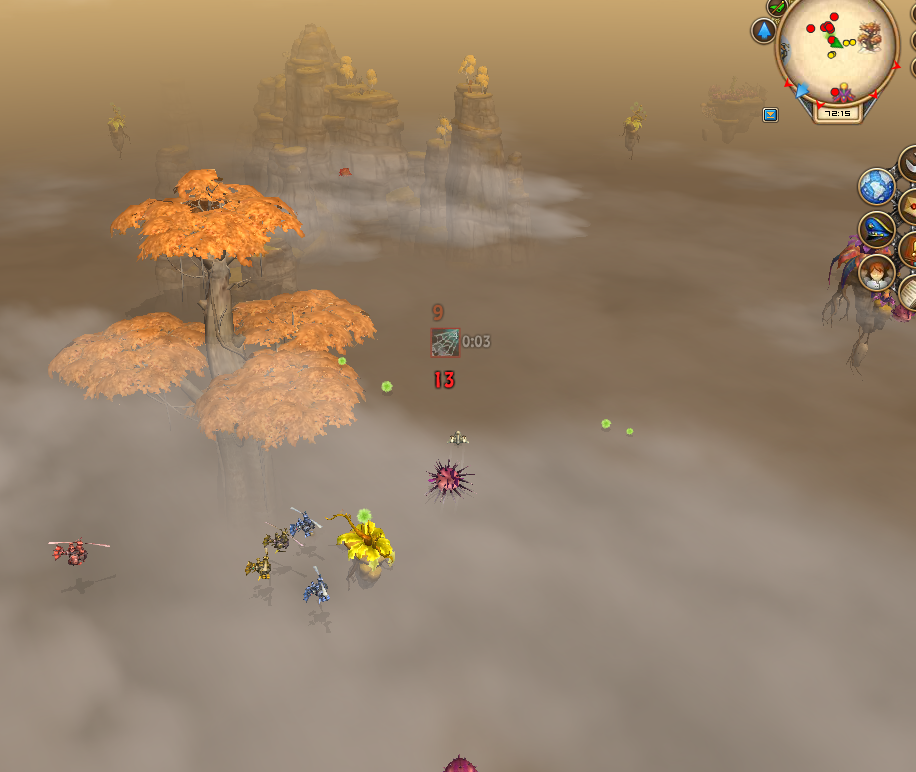dandelion-full: (324, 502, 398, 595), (100, 93, 133, 156), (619, 93, 650, 158)
fluff: (331, 348, 353, 372), (592, 412, 616, 434), (376, 374, 395, 396), (621, 425, 636, 440)
